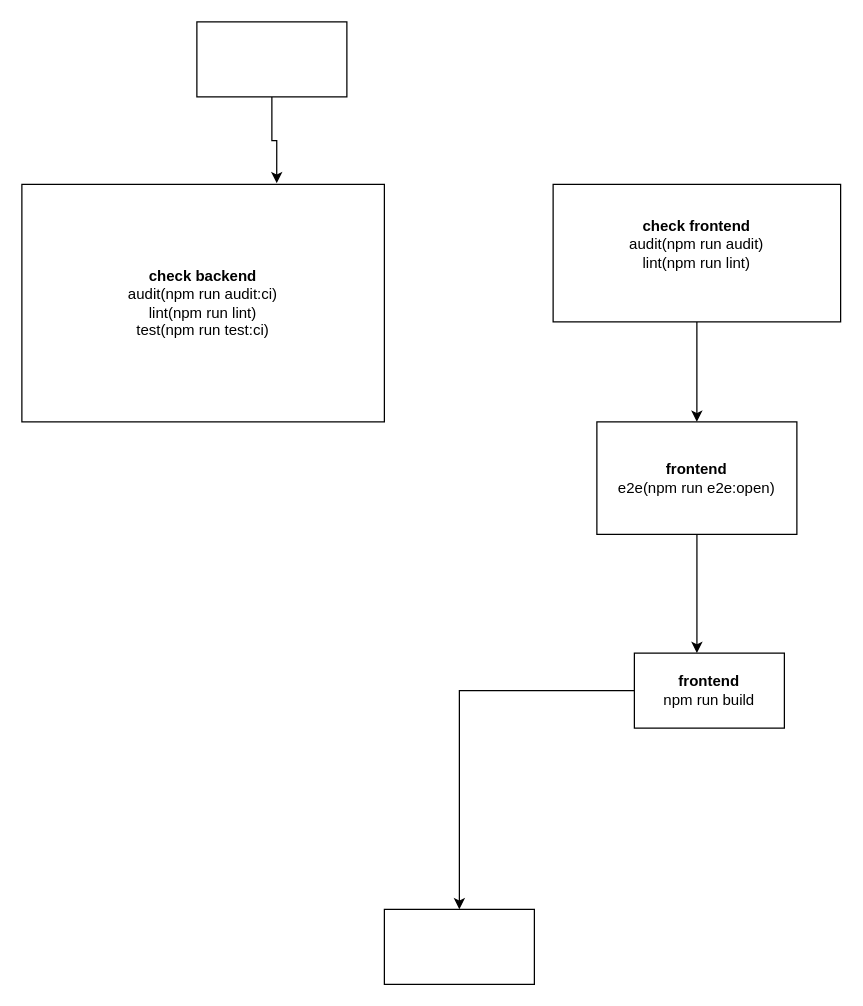
The diagram is 863 pixels wide and 1006 high, and some of its shapes have lost their labels. Here are the shapes that lost their labels. From the top down, the box of each, then its label:
(196, 21, 347, 97): start
(383, 908, 534, 984): End
